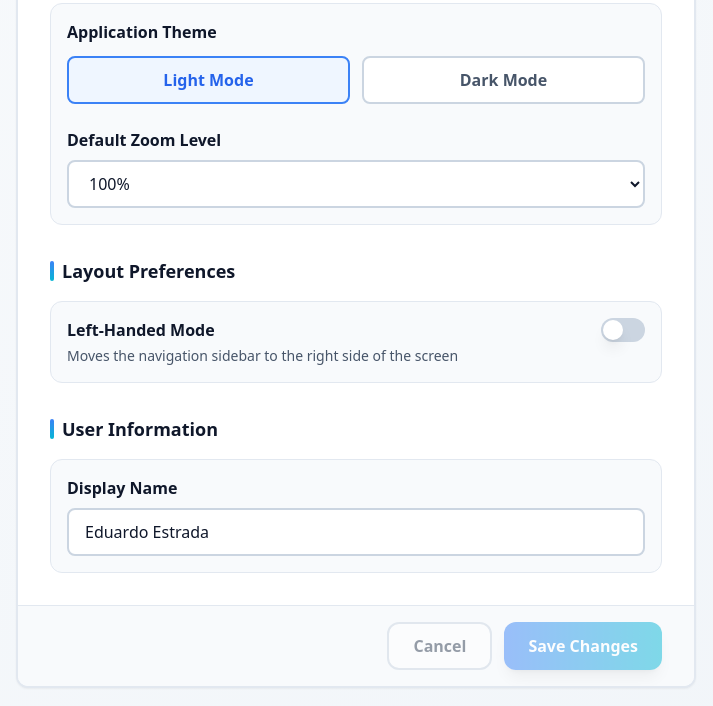
SettingsPage Component › updates local state and shows "Unsaved Changes" indicator
The image size is (713, 706).
(page scrolled)
Replace the text in the field labelled "Display Name" with "New Name" at (356, 532), box [67,508,645,556]
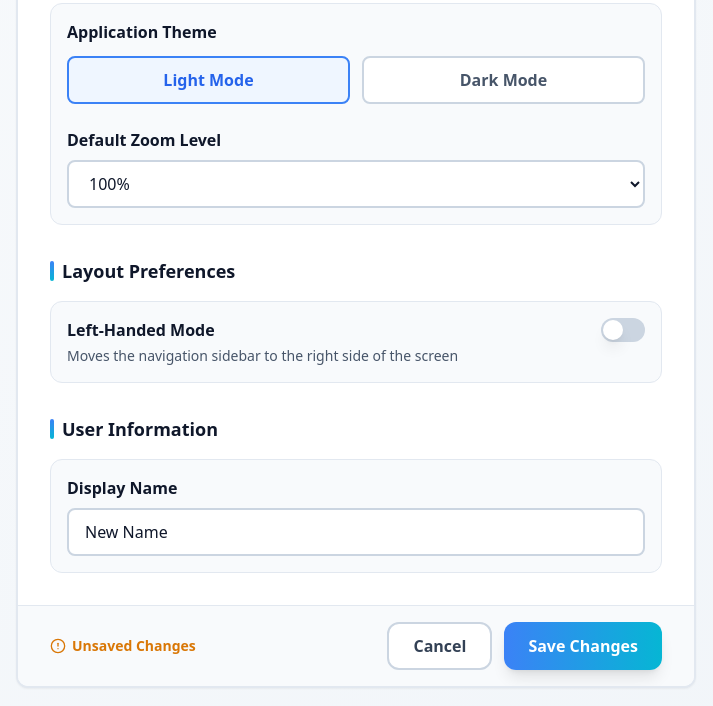
Expected: the text "Unsaved Changes" is shown, [50,636,196,656]
Expected: the button "Save Changes" is enabled, [504,622,662,670]
